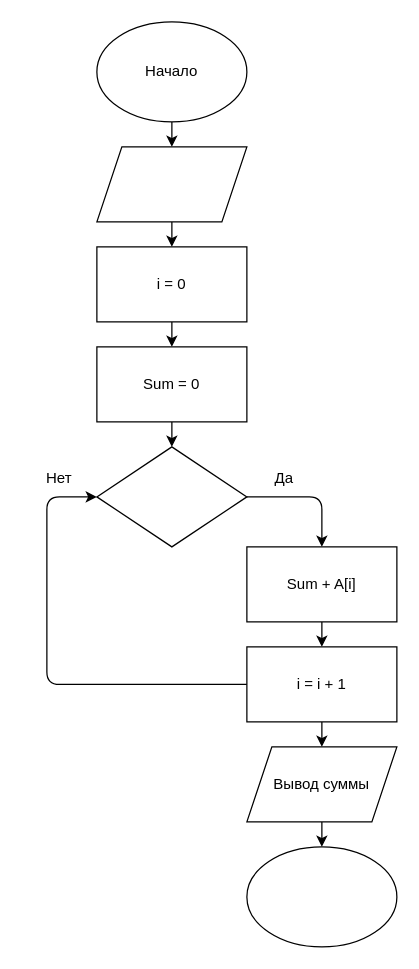
Some shapes in this 419 by 969 pixel diagram are drawn without their labels. Each missing label, with the centre of its shape:
"i < 5" belongs at pixel 171 496.
"Дан массив: { 5; 4; 5; 3; 4 }" belongs at pixel 171 184.
"Конец" belongs at pixel 321 896.
